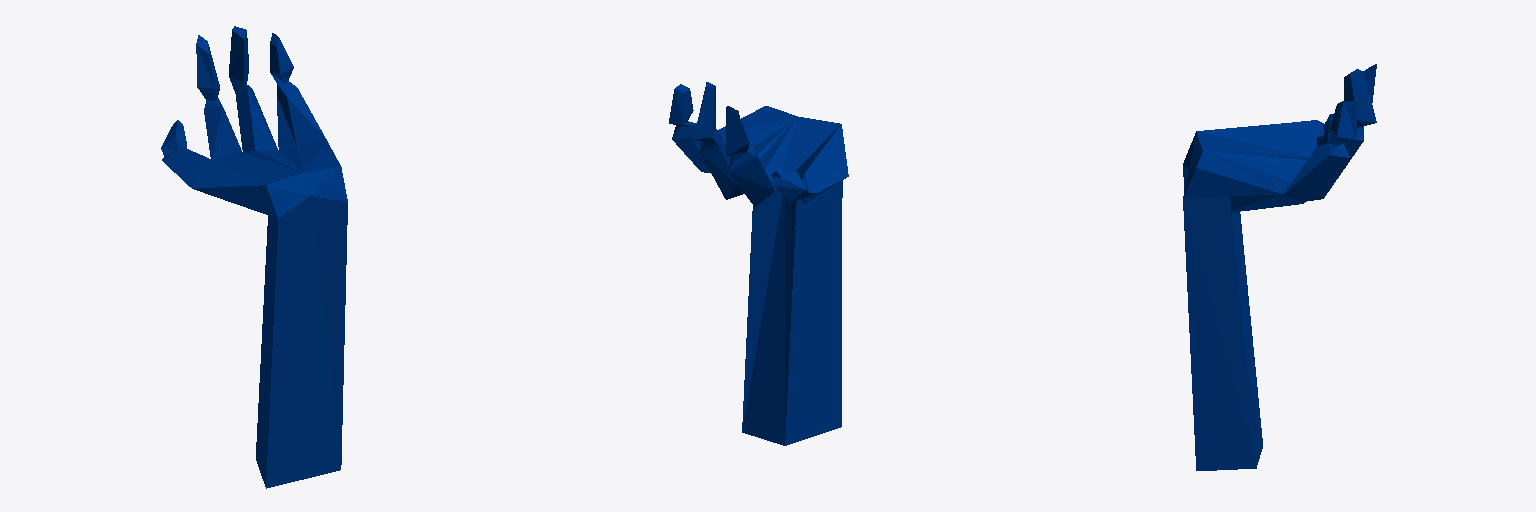
The model's file is creepyhand.obj.
3 views of the same model, side by side, from view 1: azimuth 30°, elevation 25°; view 2: azimuth 150°, elevation 25°; view 3: azimuth 270°, elevation 25° (orthographic).
Parts seen in each view (by area): view 1: default; view 2: default; view 3: default.
Boxes of the visible parts, box(x1,y1,x2,y2) form: default: box(161, 26, 347, 488); default: box(669, 82, 848, 445); default: box(1183, 64, 1376, 470).
Bounding box in the file's own units: 2.02 × 5.18 × 2.35.